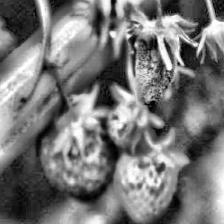Gray Mold: (125, 1, 200, 108)
